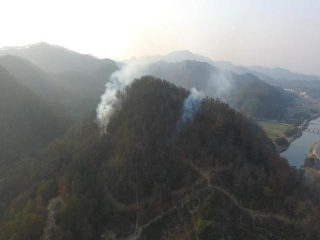smoke: (96, 59, 150, 138), (172, 77, 206, 127)
